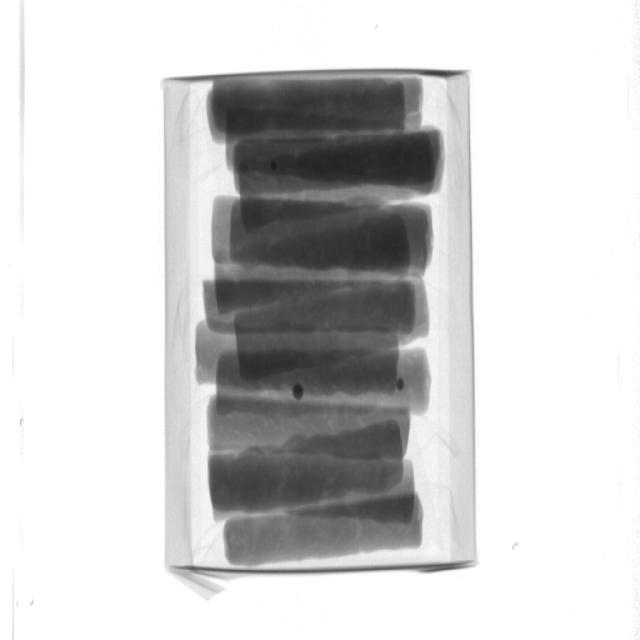ym: (292, 384, 304, 400), (397, 379, 405, 393), (272, 162, 279, 172)
